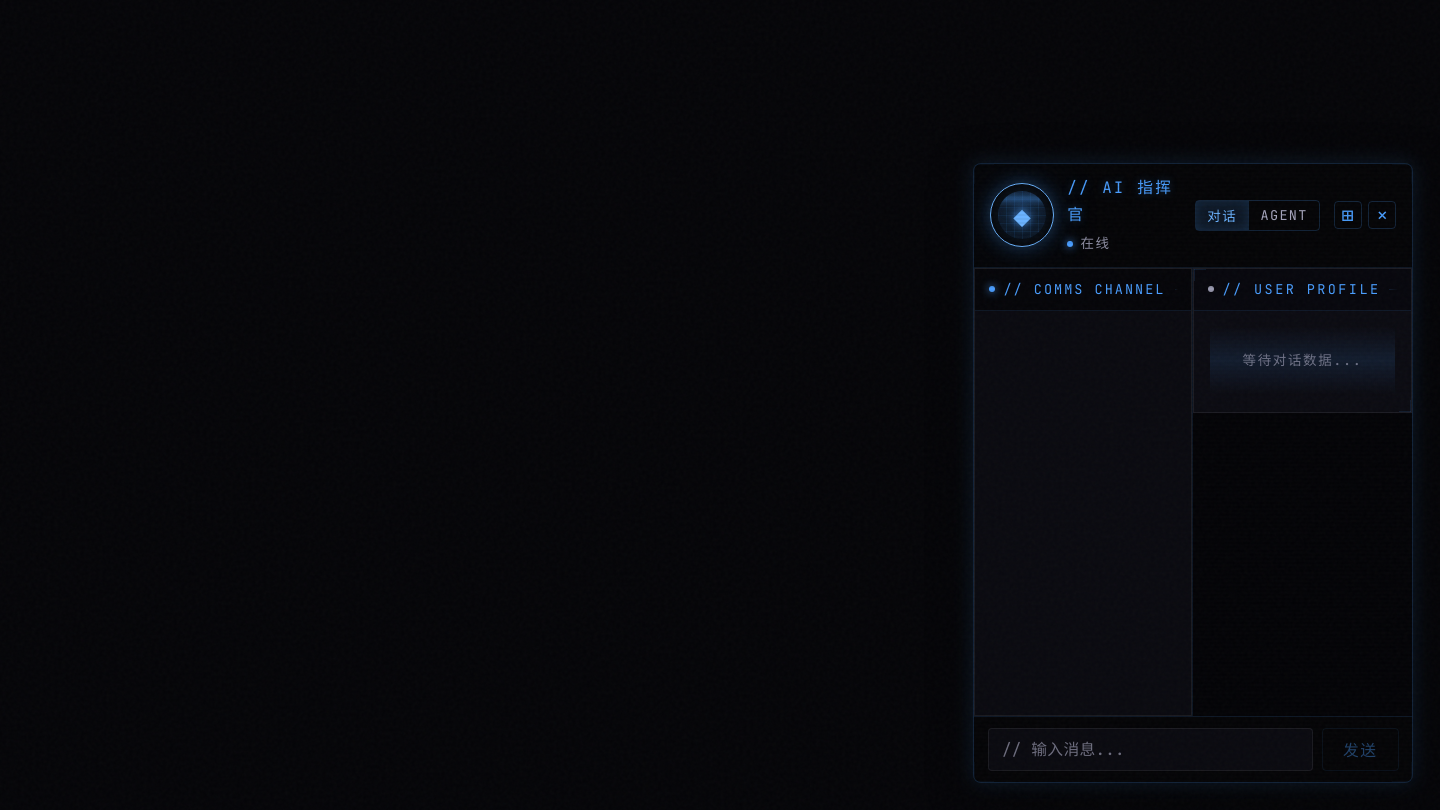
Test: RecruiterTerminal 组件 › Agent 模式（MCP 工具调用） › AGENT 模式渲染 agent 消息流（含工具轨迹）
This screenshot has width=1440, height=810.
Click the tab with class "mode-switch__btn" showing "AGENT". click: (1284, 215)
box: [1248,201,1319,230]
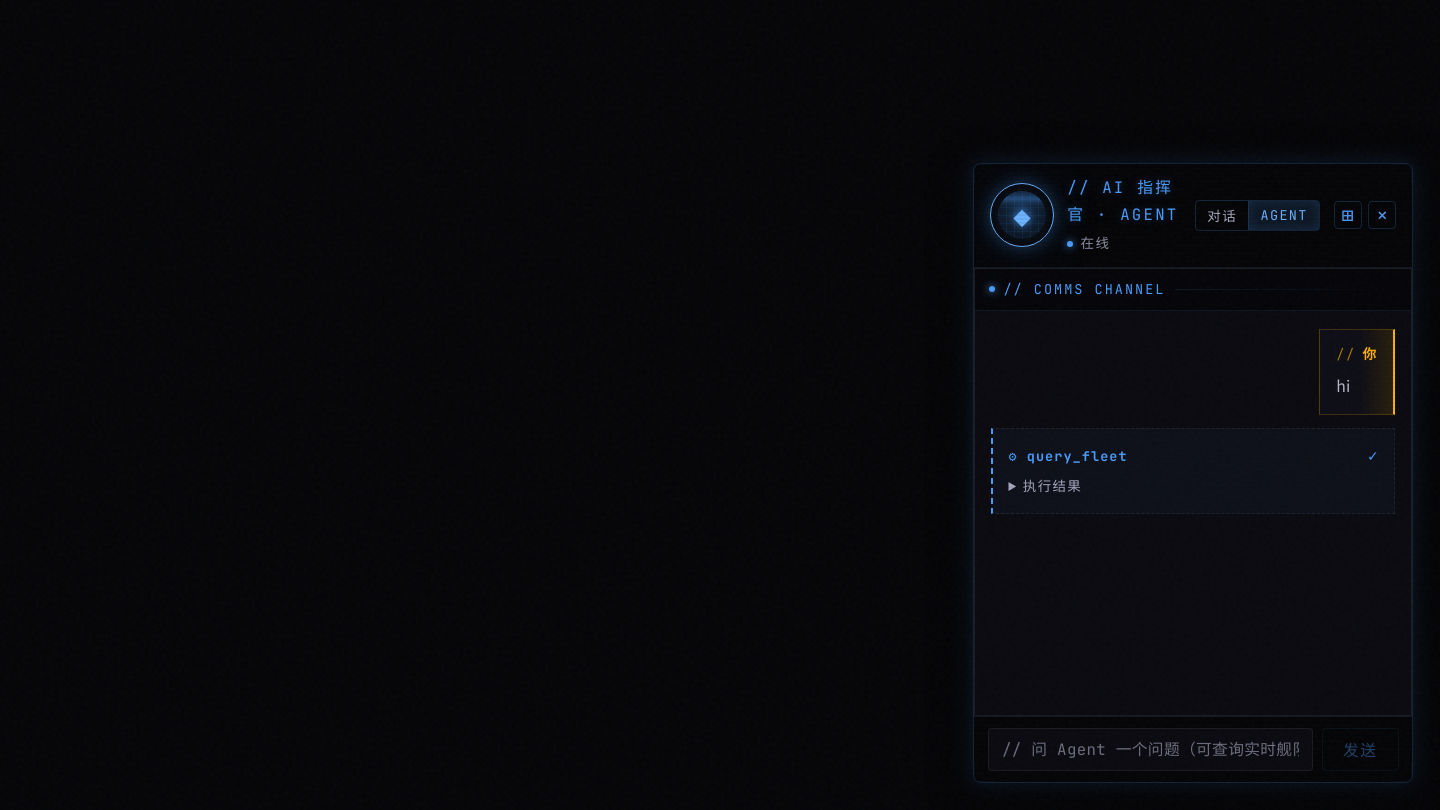
Check: the element with class "chat-message--tool" is shown, box [991,428,1395,514]
Check: the text "query_fleet" is shown, box [1027,444,1128,467]
